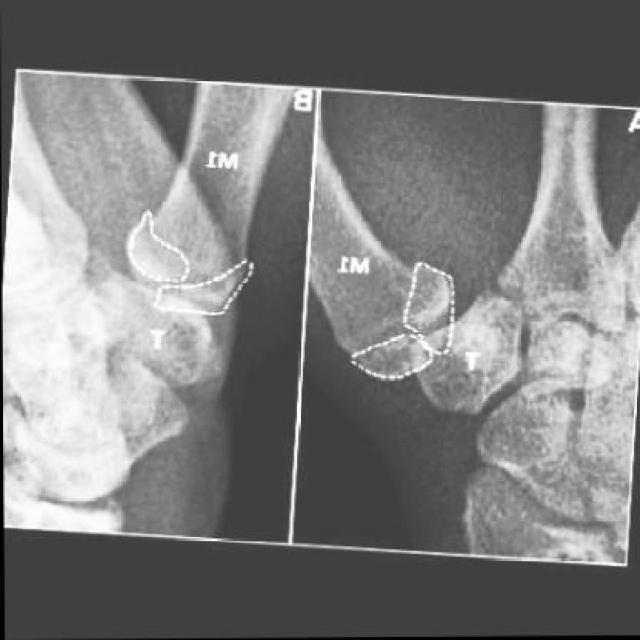Fracture: (346, 249, 470, 392), (125, 213, 267, 329)
